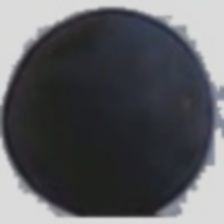grapes: (39, 21, 210, 211)
